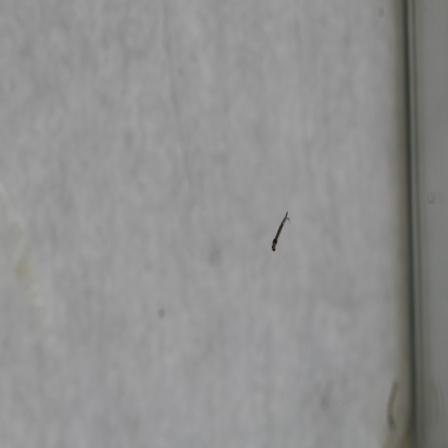Jentik-Nyamuk: (266, 206, 293, 256)
